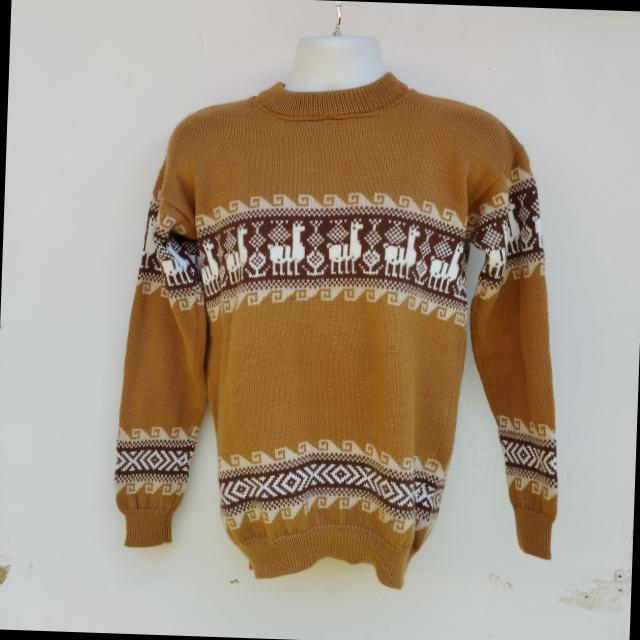Chompa: (110, 28, 574, 594)
